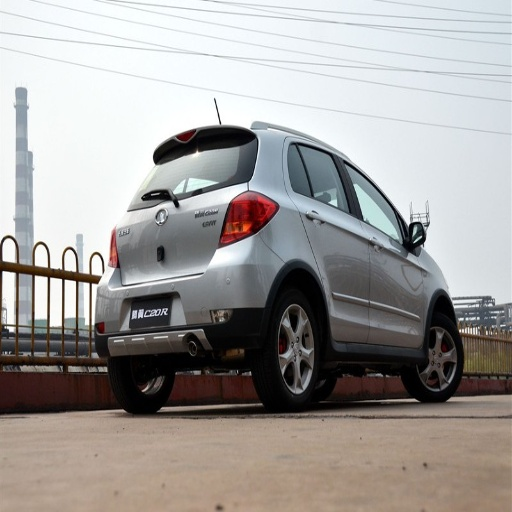back_bumper: (98, 234, 282, 352)
back_right_door: (291, 140, 369, 344)
trunk: (107, 188, 239, 307)
